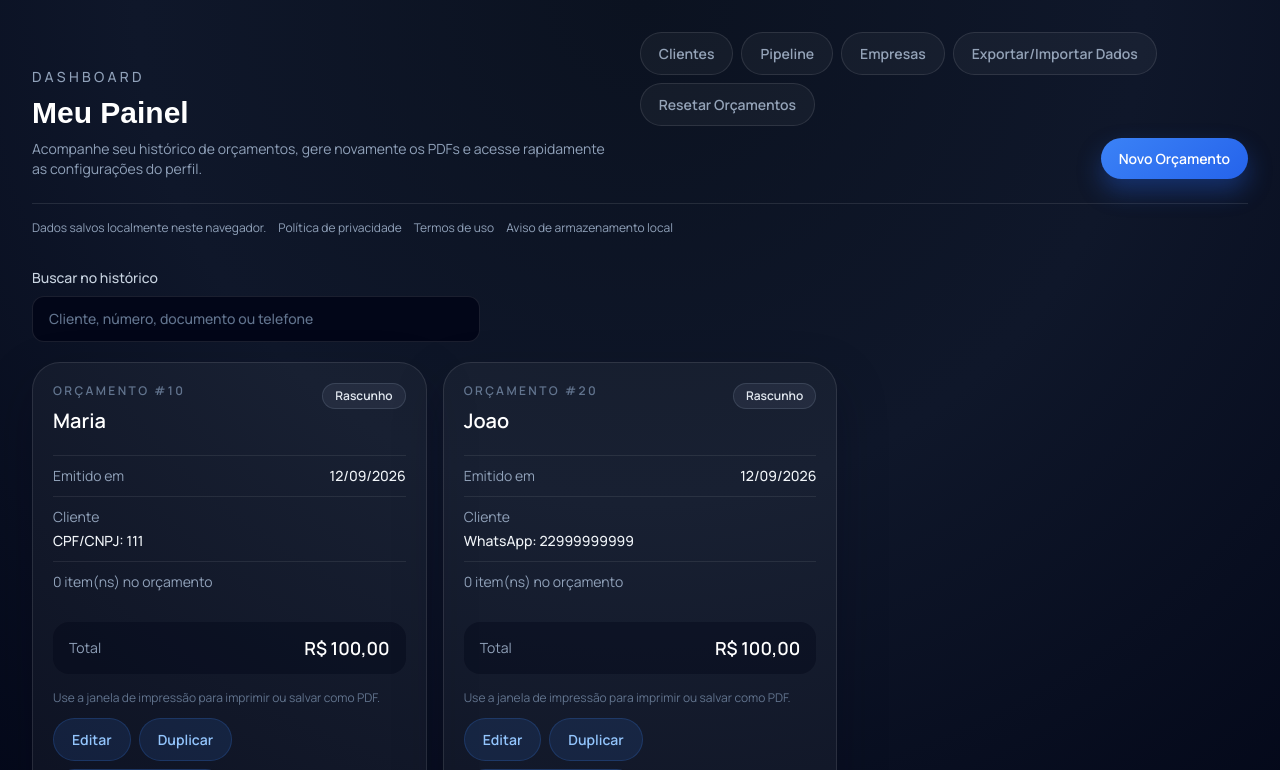
Test: HomePage › filters budgets by client, document, phone and number
Type "2299" into the field labelled "Buscar no histórico" at (256, 319), box top-left (32, 296), bottom-right (480, 342)
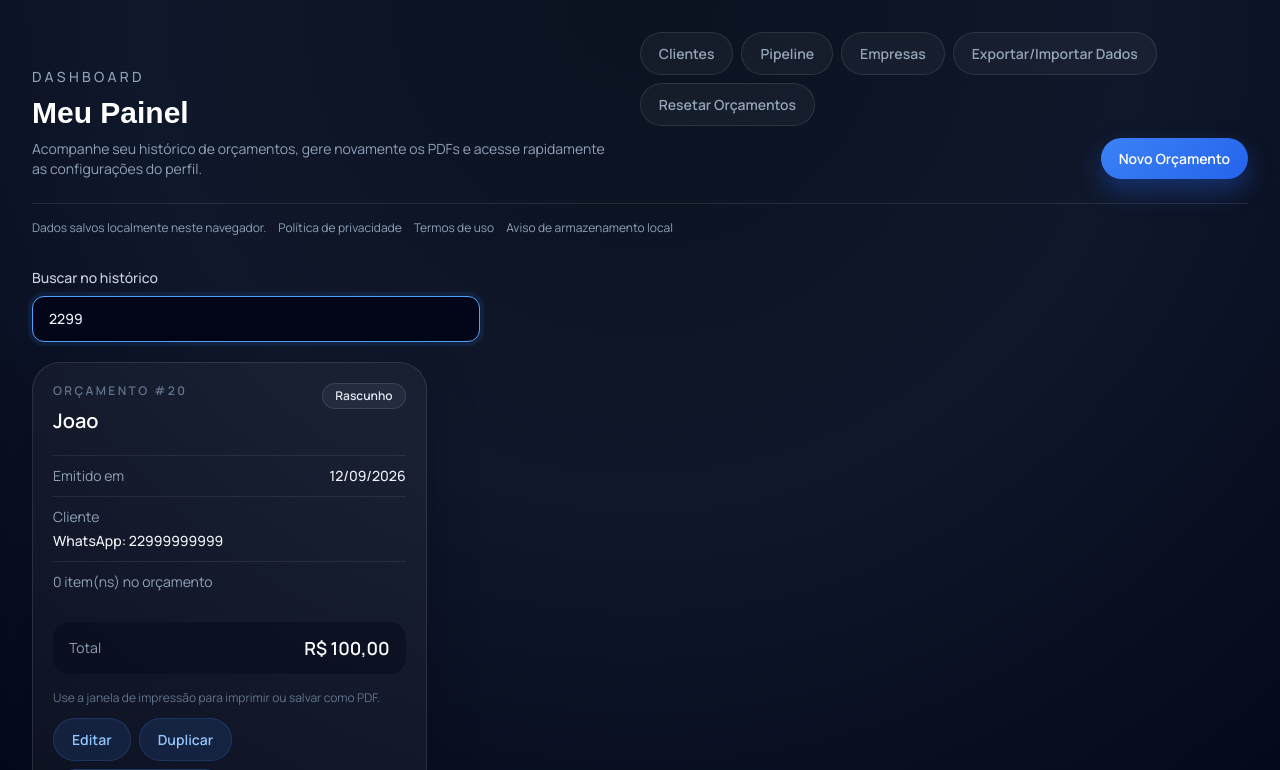
expect the heading "Joao" is shown: met, box top-left (53, 407), bottom-right (98, 434)
expect the heading "Maria" is gone: met
